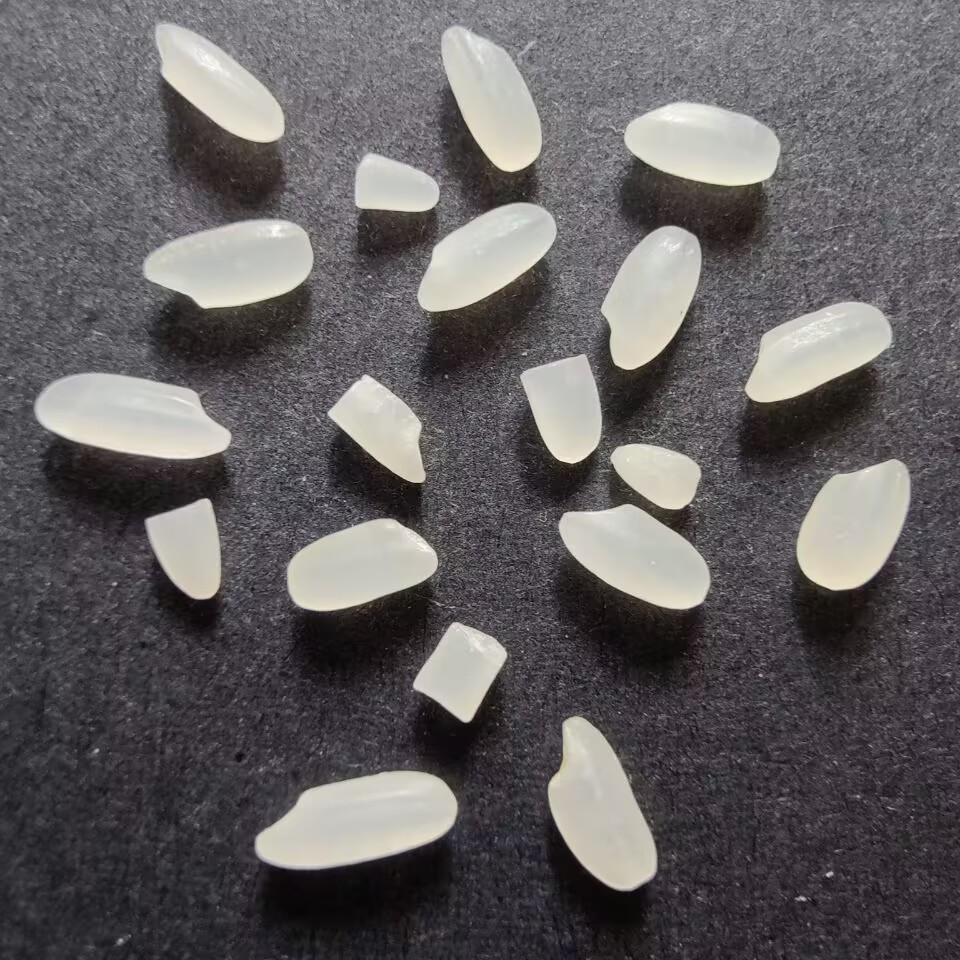broken: (319, 372, 429, 487), (405, 621, 512, 725), (514, 350, 608, 468), (136, 497, 227, 609), (607, 439, 705, 511), (347, 146, 446, 217)
rice: (253, 768, 461, 876), (543, 709, 661, 892), (29, 370, 236, 463), (553, 502, 717, 617), (144, 21, 287, 148), (139, 215, 317, 315), (411, 199, 561, 315), (795, 453, 914, 596), (742, 297, 897, 406), (433, 26, 543, 174), (282, 512, 441, 614), (598, 224, 706, 374), (614, 100, 785, 191)
